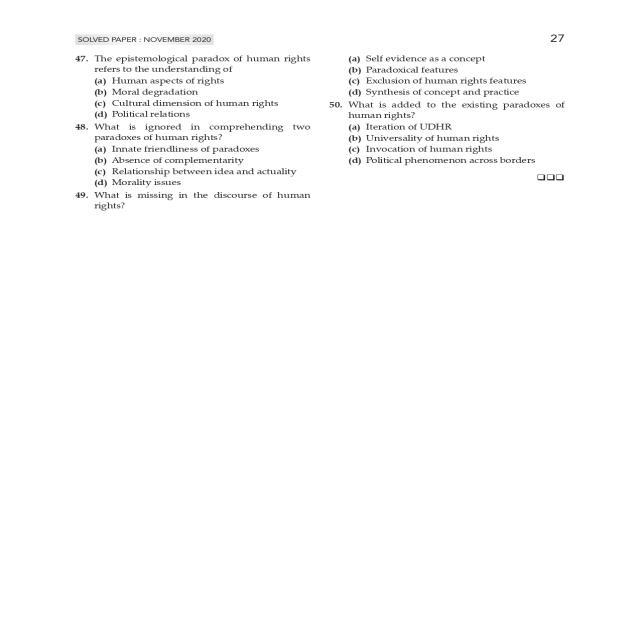Answer_Block: (324, 48, 606, 100), (324, 122, 606, 170), (48, 75, 321, 124), (48, 145, 321, 190)
Question_Answer_Block: (324, 101, 606, 170), (48, 49, 321, 120), (48, 120, 321, 190), (324, 48, 606, 100), (50, 188, 323, 212)
Question_Block: (48, 49, 321, 76), (48, 120, 321, 144), (50, 188, 323, 212), (324, 100, 606, 120)
Question_Paper_Area: (48, 29, 629, 624)
